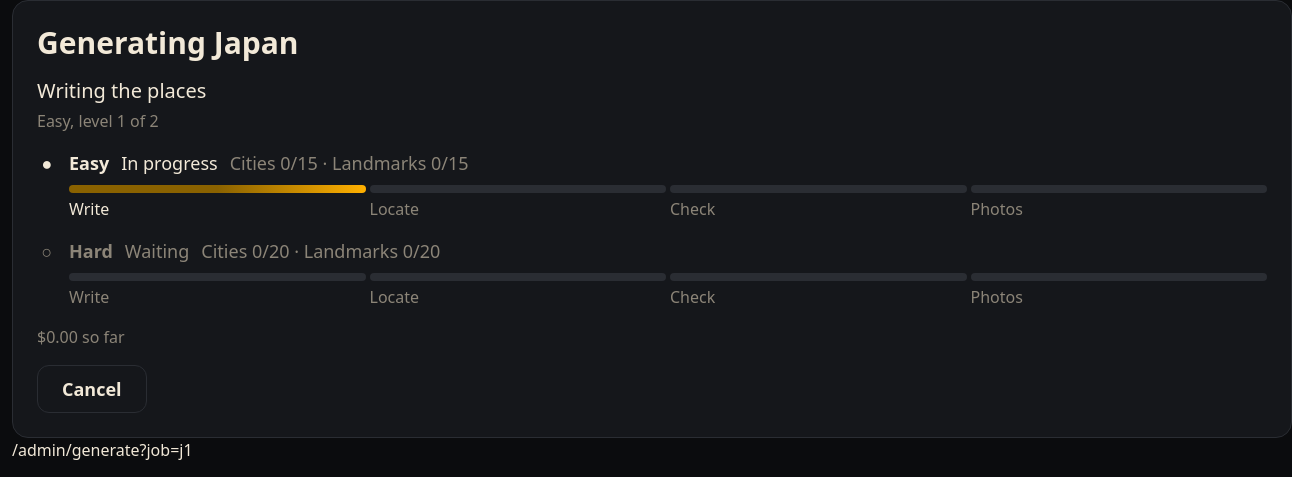
Test: Generate failure and cancel › cancels after a confirm and names the level it stopped at
Click the button with aria-label "Cancel the generation".
click(92, 389)  # box [37,365,146,413]
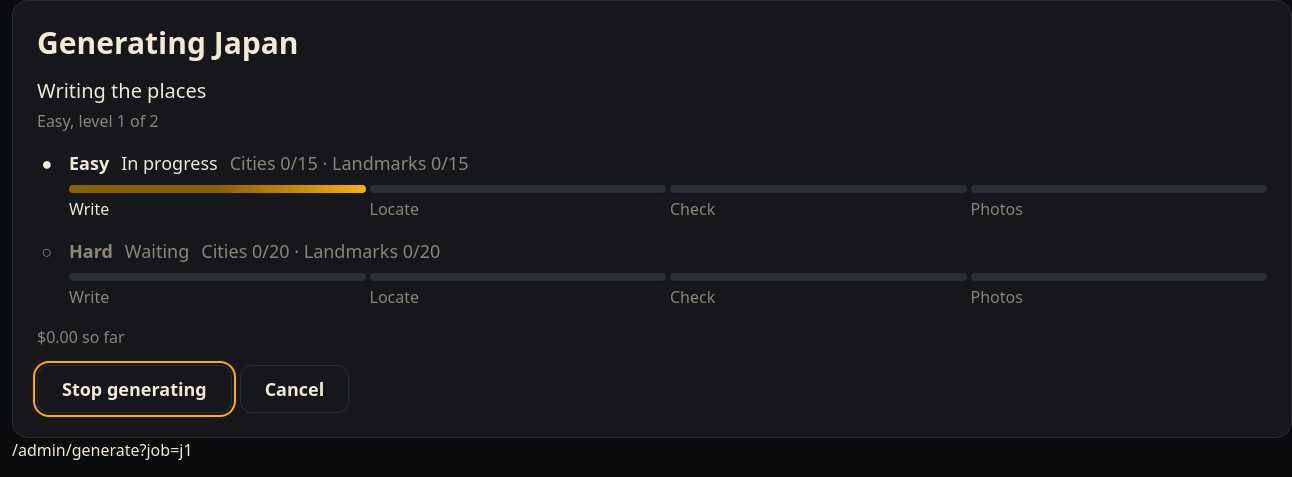
Click the button "Stop generating".
click(134, 389)  # box [37,365,232,413]
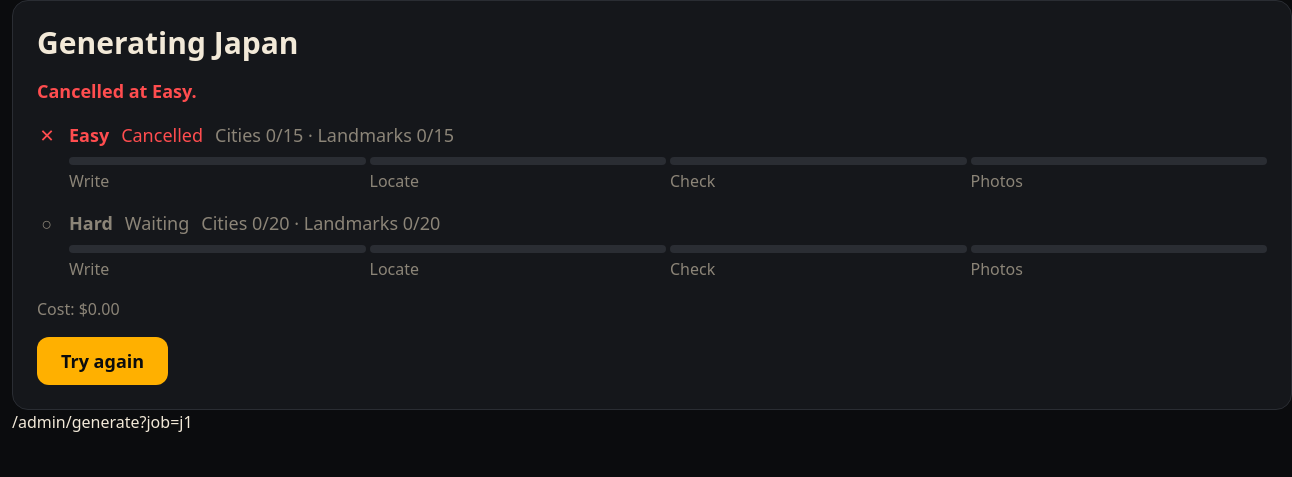
Check: the message reads "Cancelled at Easy.", box [37,79,197,103]
Check: the button "Try again" is shown, box [37,337,168,385]
